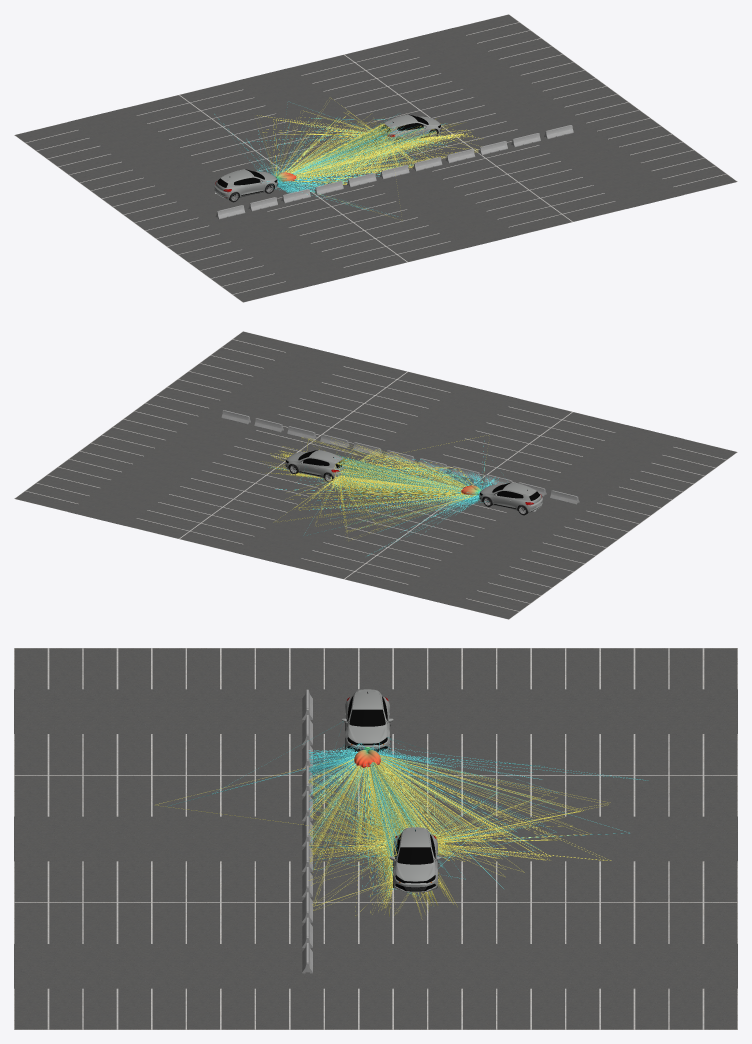
The model's file is demo_ray_tracing_2.glb.
3 renders of one model, top to bottom at view 1: azimuth 30°, elevation 25°; view 2: azimuth 150°, elevation 25°; view 3: azimuth 270°, elevation 25°, orthographic. The views are drawn at different scales.
Parts seen in each view (by area): view 1: __AURASIM_EXPORT__Terrain_Ground, __AURASIM_EXPORT__Roads_Road, __AURASIM_EXPORT__Terrain_Marking, __AURASIM_EXPORT__paths_specular_frame_0050, __AURASIM_EXPORT__paths_diffuse_frame_0050, __AURASIM_EXPORT__car-body, __AURASIM_EXPORT__car-body.001; view 2: __AURASIM_EXPORT__Terrain_Ground, __AURASIM_EXPORT__Roads_Road, __AURASIM_EXPORT__Terrain_Marking, __AURASIM_EXPORT__paths_specular_frame_0050, __AURASIM_EXPORT__paths_diffuse_frame_0050, __AURASIM_EXPORT__car-body, __AURASIM_EXPORT__car-body.001; view 3: __AURASIM_EXPORT__Terrain_Ground, __AURASIM_EXPORT__Roads_Road, __AURASIM_EXPORT__paths_specular_frame_0050, __AURASIM_EXPORT__Terrain_Marking, __AURASIM_EXPORT__paths_diffuse_frame_0050, __AURASIM_EXPORT__car-body.001, __AURASIM_EXPORT__car-body.
Boxes of the visible parts, box(x1,y1,x2,y2) form: __AURASIM_EXPORT__Terrain_Ground: box(15, 14, 736, 302); __AURASIM_EXPORT__Roads_Road: box(68, 27, 683, 289); __AURASIM_EXPORT__Terrain_Marking: box(14, 14, 737, 302); __AURASIM_EXPORT__paths_specular_frame_0050: box(257, 97, 483, 217); __AURASIM_EXPORT__paths_diffuse_frame_0050: box(214, 102, 451, 216); __AURASIM_EXPORT__car-body: box(214, 169, 277, 199); __AURASIM_EXPORT__car-body.001: box(379, 114, 441, 141); __AURASIM_EXPORT__Terrain_Ground: box(15, 331, 736, 619); __AURASIM_EXPORT__Roads_Road: box(68, 344, 683, 606); __AURASIM_EXPORT__Terrain_Marking: box(14, 331, 737, 619); __AURASIM_EXPORT__paths_specular_frame_0050: box(260, 435, 489, 539); __AURASIM_EXPORT__paths_diffuse_frame_0050: box(268, 441, 506, 555); __AURASIM_EXPORT__car-body: box(479, 482, 542, 512); __AURASIM_EXPORT__car-body.001: box(285, 450, 346, 479); __AURASIM_EXPORT__Terrain_Ground: box(14, 648, 737, 1029); __AURASIM_EXPORT__Roads_Road: box(14, 689, 737, 988); __AURASIM_EXPORT__paths_specular_frame_0050: box(154, 755, 611, 919); __AURASIM_EXPORT__Terrain_Marking: box(14, 648, 737, 1029); __AURASIM_EXPORT__paths_diffuse_frame_0050: box(167, 721, 648, 900); __AURASIM_EXPORT__car-body.001: box(389, 827, 441, 892); __AURASIM_EXPORT__car-body: box(341, 689, 393, 753).
Size of the model in its own units: 37.67 by 1.49 by 30.18.
Materials: 39 (16 with a texture image).
